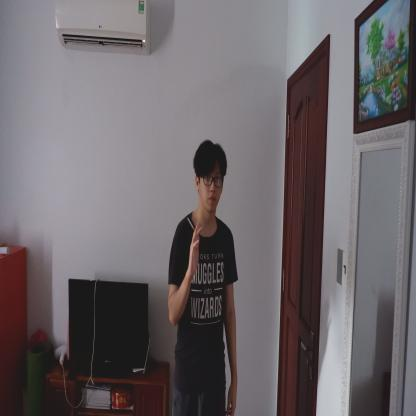cigarette: (186, 216, 196, 232)
person: (167, 137, 240, 415)
